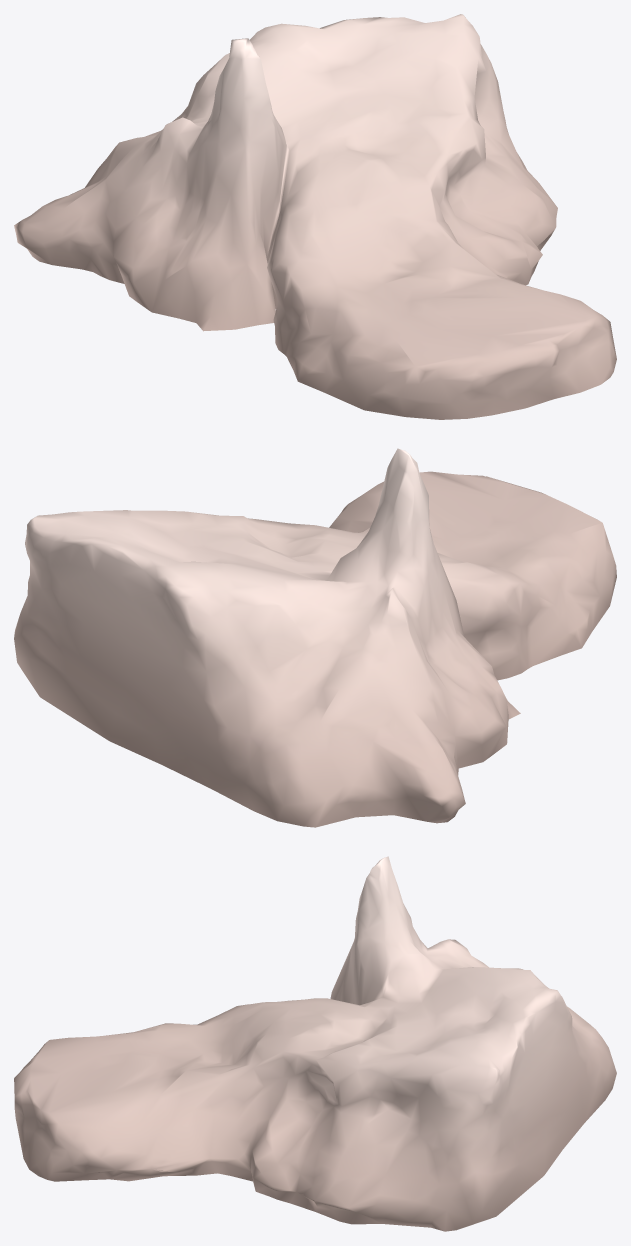
The model's file is Mountain_13.glb.
3 renders of one model, top to bottom at view 1: azimuth 30°, elevation 25°; view 2: azimuth 150°, elevation 25°; view 3: azimuth 270°, elevation 25°, orthographic. The views are drawn at different scales.
Parts seen in each view (by area): view 1: Mountain_13; view 2: Mountain_13; view 3: Mountain_13.
Part boxes in pixels (<box>): Mountain_13: <box>14,14,616,419</box>; Mountain_13: <box>14,448,616,827</box>; Mountain_13: <box>14,856,616,1231</box>.
Size of the model in its own units: 27.39 by 14.65 by 34.36.
1 material, 1 textured.
